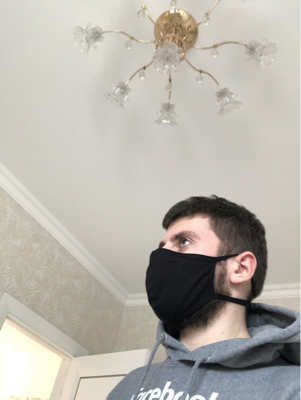with_mask: (146, 228, 223, 328)
